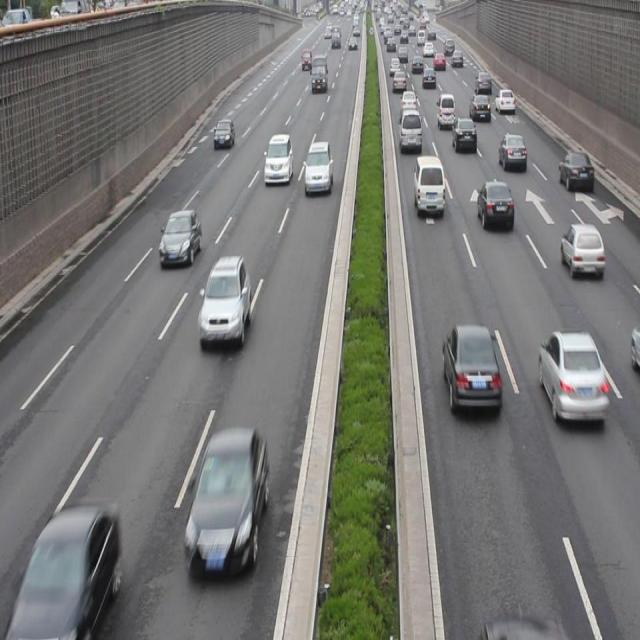car: (19, 509, 118, 629), (185, 432, 266, 571), (537, 331, 606, 426), (440, 322, 500, 418), (198, 260, 248, 346), (558, 224, 604, 282), (158, 212, 201, 266), (412, 156, 444, 217), (476, 179, 512, 232), (304, 142, 332, 196), (557, 151, 593, 193), (262, 135, 292, 185), (496, 136, 525, 171), (398, 110, 420, 152), (452, 117, 475, 154), (212, 119, 235, 149)
truck: (436, 94, 455, 128)
